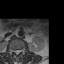CCS_normal: (16, 47, 18, 57)
LFS_normal: (20, 47, 22, 53)
LLS_normal: (18, 47, 20, 54)
RFS_normal: (12, 47, 14, 53)
RLS_normal: (14, 48, 16, 55)
